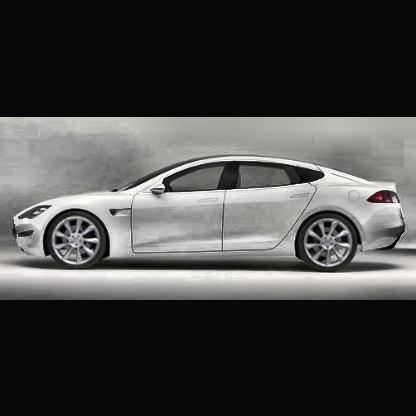Tesla Model S Sedan 2012: (15, 154, 411, 272)
